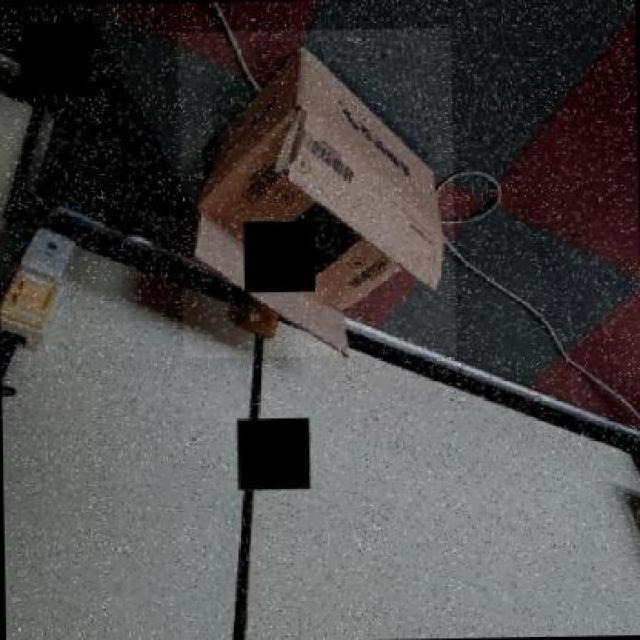box: (177, 27, 455, 358)
